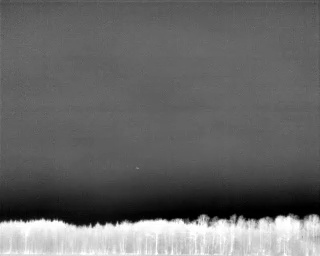AIRPLANE: (134, 164, 141, 172)
